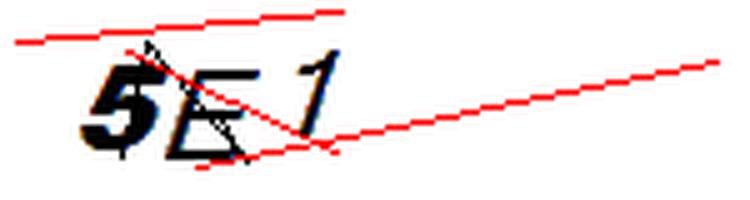1: (285, 42, 346, 149)
5: (76, 58, 171, 157)
E: (160, 60, 267, 172)
